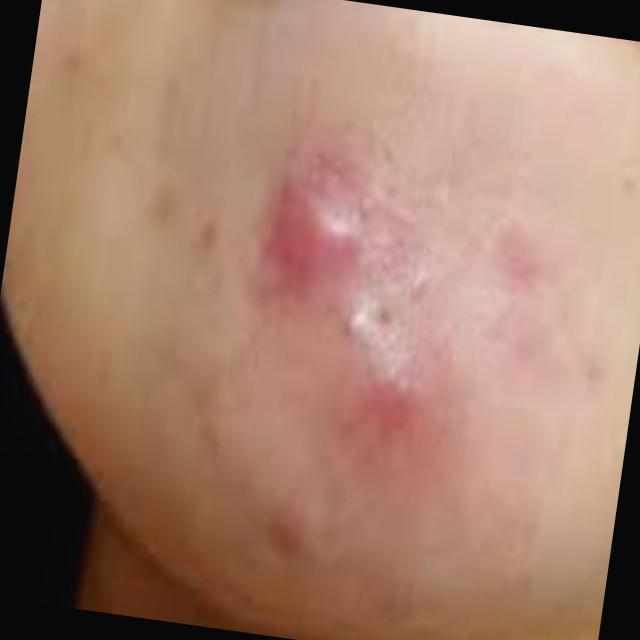nodule: (264, 172, 374, 288), (345, 348, 439, 441)
